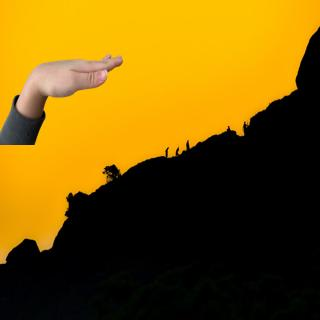Wait: (8, 48, 126, 112)
